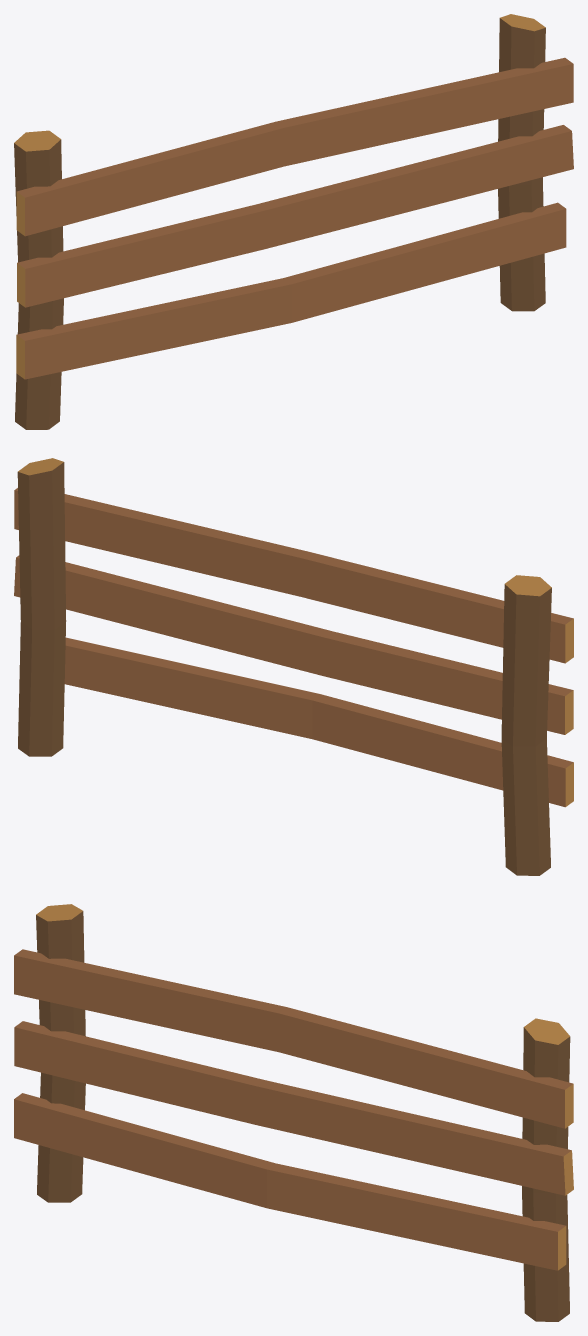
Rendered from fence.glb.
3 views of the same model, one above another, from view 1: azimuth 30°, elevation 25°; view 2: azimuth 150°, elevation 25°; view 3: azimuth 330°, elevation 25° (orthographic).
Parts seen in each view (by area): view 1: fence; view 2: fence; view 3: fence.
Part boxes in pixels (x1,y1,x2,y2): fence: (14, 14, 573, 429); fence: (14, 458, 573, 875); fence: (14, 904, 573, 1321).
Size of the model in its own units: 2.26 by 1.12 by 0.2557.
Materials: 1 (1 with a texture image).
